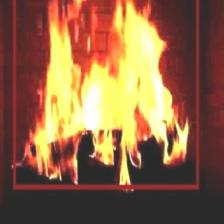fire: (13, 0, 198, 188)
